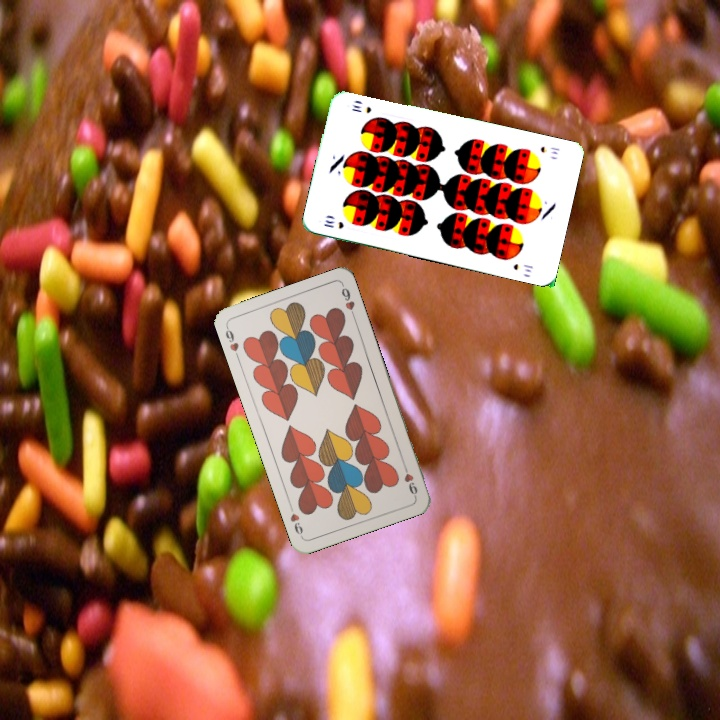H9: (221, 322, 242, 362), (399, 460, 420, 499)
S10: (319, 216, 346, 231), (536, 142, 562, 157)
